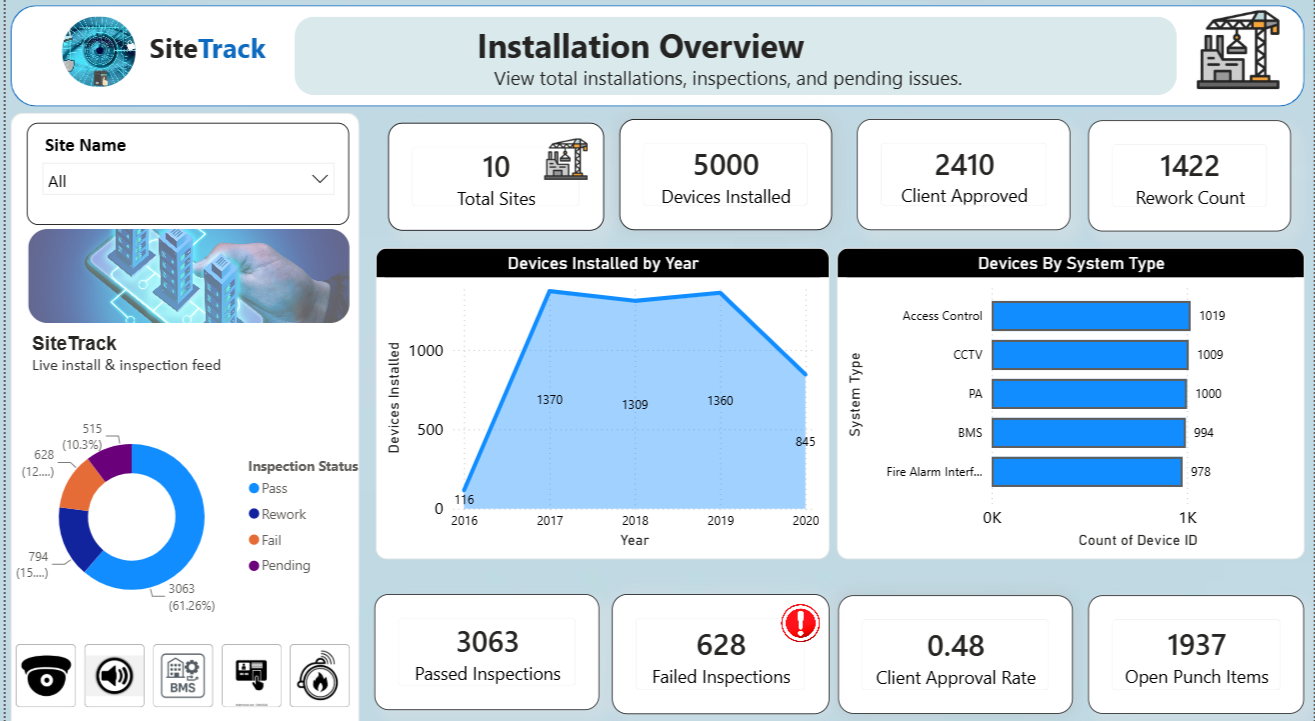

The dashboard page shown, as its layout file describes it:
{"tool":"powerbi","page":{"name":"overview","canvas":[1280,720],"ordinal":1},"visuals":[{"type":"shape","box":[4.9,6.1,1265.6,99],"z":0},{"type":"shape","box":[282.5,17.1,863.3,77],"z":0,"group":"g7"},{"type":"textbox","box":[456.1,18.3,489.1,75.8],"z":1000,"group":"g7"},{"type":"textbox","box":[135.7,24.5,184.6,53.8],"z":1000},{"type":"image","box":[55,17.1,72.1,68.5],"z":2000},{"type":"textbox","box":[457.2,41.4,507.5,74.6],"z":2000,"group":"g7"},{"type":"shape","box":[4.9,111.3,341.2,609],"z":3000},{"type":"donutChart","fields":{"Y":["CountNonNull(Fact_Installation.Device ID)"],"Category":["Fact_Installation.Inspection Status"]},"box":[4.9,392.5,352.2,228.7],"z":4000},{"type":"image","box":[22,225,314.3,91.7],"z":5000},{"type":"stackedAreaChart","fields":{"Y":["Dim_Client.Devices Installed"],"Category":["Dim_Date.Year-Month.Variation.Date Hierarchy.Year","Dim_Date.Year-Month.Variation.Date Hierarchy.Quarter","Dim_Date.Year-Month.Variation.Date Hierarchy.Month","Dim_Date.Year-Month.Variation.Date Hierarchy.Day"]},"box":[362,243.3,443.9,304.5],"z":7000},{"type":"cardVisual","fields":{"Data":["Dim_Client.Devices Installed"]},"box":[600.4,117.4,207.7,108.8],"z":8000,"group":"g2"},{"type":"barChart","title":"Devices By System Type","fields":{"Y":["CountNonNull(Fact_Installation.Device ID)"],"Category":["Dim_System.System Type"]},"box":[813.2,243.3,457.3,304.5],"z":8000},{"type":"slicer","fields":{"Values":["Dim_Site.Site Name"]},"box":[20.8,121.1,315.5,100.3],"z":9000},{"type":"cardVisual","fields":{"Data":["Fact_Installation.Passed Inspections"]},"box":[360.7,582.1,220.1,113.7],"z":9000,"group":"g8"},{"type":"cardVisual","fields":{"Data":["Fact_Installation.Failed Inspections"]},"box":[593.1,582.1,212.8,117.4],"z":9000,"group":"g5"},{"type":"textbox","box":[20.9,321.4,211.5,57],"z":11000},{"type":"cardVisual","fields":{"Data":["Fact_Installation.Rework Count"]},"box":[1059,118.6,198.1,108.8],"z":12000},{"type":"advancedSlicerVisual","fields":{"Values":["images.SystemID"]},"box":[4.9,626.1,341.2,72.1],"z":13000},{"type":"cardVisual","fields":{"Data":["Fact_Installation.Open Punch Items"]},"box":[1059,583.3,211.6,116.2],"z":14000},{"type":"image","box":[1139.7,7.3,132.1,80.7],"z":15000},{"type":"cardVisual","fields":{"Data":["Fact_Installation.Total Sites"]},"box":[374.2,121.1,210.9,105.4],"z":15000,"group":"g6"},{"type":"group","id":"g1","title":"Group 2","box":[360.7,582.1,220.1,113.7],"z":16000},{"type":"group","id":"g2","title":"Group 1","box":[600.4,117.4,207.9,108.8],"z":17000},{"type":"group","id":"g3","title":"Group 5","box":[832.7,117.4,209.1,108.8],"z":18000},{"type":"cardVisual","fields":{"Data":["Fact_Installation.Client Approval Rate"]},"box":[814.4,583.3,229.9,116.2],"z":18000,"group":"g4"},{"type":"cardVisual","fields":{"Data":["Fact_Installation.Client Approved"]},"box":[832.7,117.4,209.1,108.8],"z":19000,"group":"g3"},{"type":"group","id":"g4","title":"Group 6","box":[814.4,583.3,229.9,116.2],"z":19000},{"type":"image","box":[515.2,134.3,66.2,42.2],"z":20000,"group":"g6"},{"type":"group","id":"g5","title":"Group 4","box":[593.1,582.1,212.8,117.4],"z":20000},{"type":"group","id":"g6","title":"Group 7","box":[374.2,121.1,210.3,106.4],"z":21000},{"type":"group","id":"g7","title":"Group 8","box":[282.5,17.1,863.3,99],"z":22000},{"type":"image","box":[757.1,591.6,41.6,37.6],"z":25000,"group":"g5"},{"type":"group","id":"g8","title":"Group 3","box":[360.7,582.1,220.1,113.7],"z":28001,"group":"g1"}]}

Visuals, with their boxes in screenshot pixels (x1, y1, x2, y2), scaled from the page's 1280x720 canvas onto the 1315x721 screenshot:
shape: [5,6,1305,105]
shape: [290,17,1177,94]
textbox: [469,18,971,94]
textbox: [139,25,329,78]
image: [57,17,131,86]
textbox: [470,41,991,116]
shape: [5,111,356,720]
donutChart - CountNonNull(Fact_Installation.Device ID) x Fact_Installation.Inspection Status: [5,393,367,622]
image: [23,225,345,317]
stackedAreaChart - Dim_Client.Devices Installed x Dim_Date.Year-Month.Variation.Date Hierarchy.Year: [372,244,828,549]
cardVisual - Dim_Client.Devices Installed: [617,118,830,227]
"Devices By System Type" barChart: [835,244,1305,549]
slicer - Dim_Site.Site Name: [21,121,345,222]
cardVisual - Fact_Installation.Passed Inspections: [371,583,597,697]
cardVisual - Fact_Installation.Failed Inspections: [609,583,828,700]
textbox: [21,322,239,379]
cardVisual - Fact_Installation.Rework Count: [1088,119,1291,228]
advancedSlicerVisual - images.SystemID: [5,627,356,699]
cardVisual - Fact_Installation.Open Punch Items: [1088,584,1305,700]
image: [1171,7,1307,88]
cardVisual - Fact_Installation.Total Sites: [384,121,601,227]
"Group 2" group: [371,583,597,697]
"Group 1" group: [617,118,830,227]
"Group 5" group: [855,118,1070,227]
cardVisual - Fact_Installation.Client Approval Rate: [837,584,1073,700]
cardVisual - Fact_Installation.Client Approved: [855,118,1070,227]
"Group 6" group: [837,584,1073,700]
image: [529,134,597,177]
"Group 4" group: [609,583,828,700]
"Group 7" group: [384,121,600,228]
"Group 8" group: [290,17,1177,116]
image: [778,592,821,630]
"Group 3" group: [371,583,597,697]
